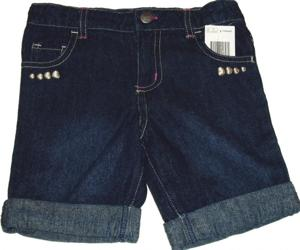C_shorts: (1, 1, 299, 250)
